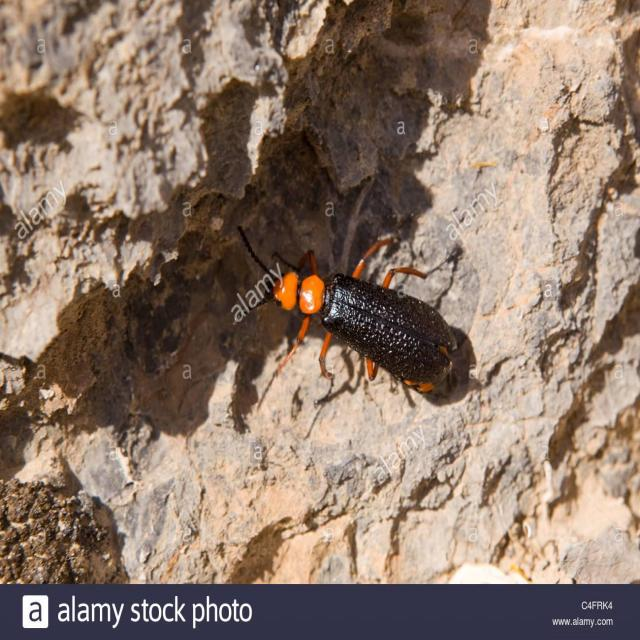BlisterBeetle-Adult-: (239, 214, 466, 409)
